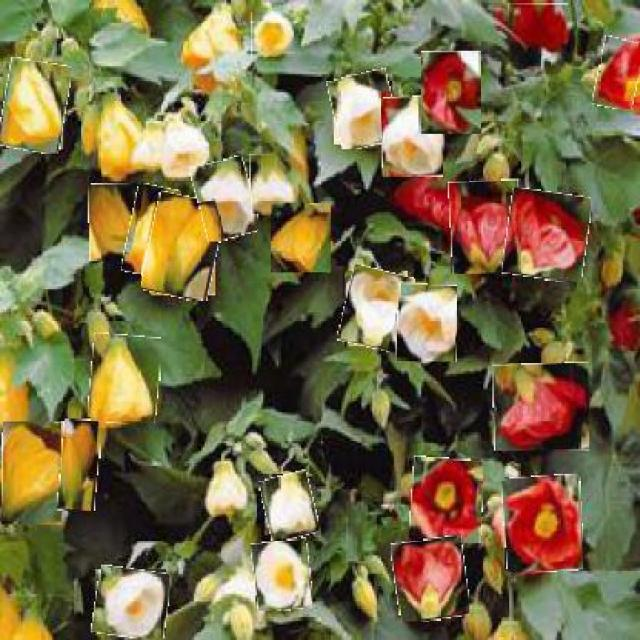Flower: (494, 363, 591, 452), (146, 194, 223, 300), (503, 475, 583, 574), (505, 190, 591, 281), (449, 179, 522, 275), (0, 58, 69, 154), (3, 422, 66, 527), (411, 457, 485, 545), (90, 335, 161, 424), (393, 539, 469, 622), (341, 269, 413, 352), (94, 567, 169, 639), (330, 72, 398, 149), (194, 159, 257, 242), (420, 51, 482, 135), (381, 96, 444, 178), (125, 185, 179, 278), (396, 284, 458, 364), (253, 538, 313, 611), (271, 203, 332, 274), (58, 419, 100, 513), (89, 185, 138, 262), (261, 472, 317, 539), (507, 3, 570, 54), (596, 37, 639, 111), (250, 154, 296, 215), (205, 458, 248, 517), (251, 13, 295, 59)
